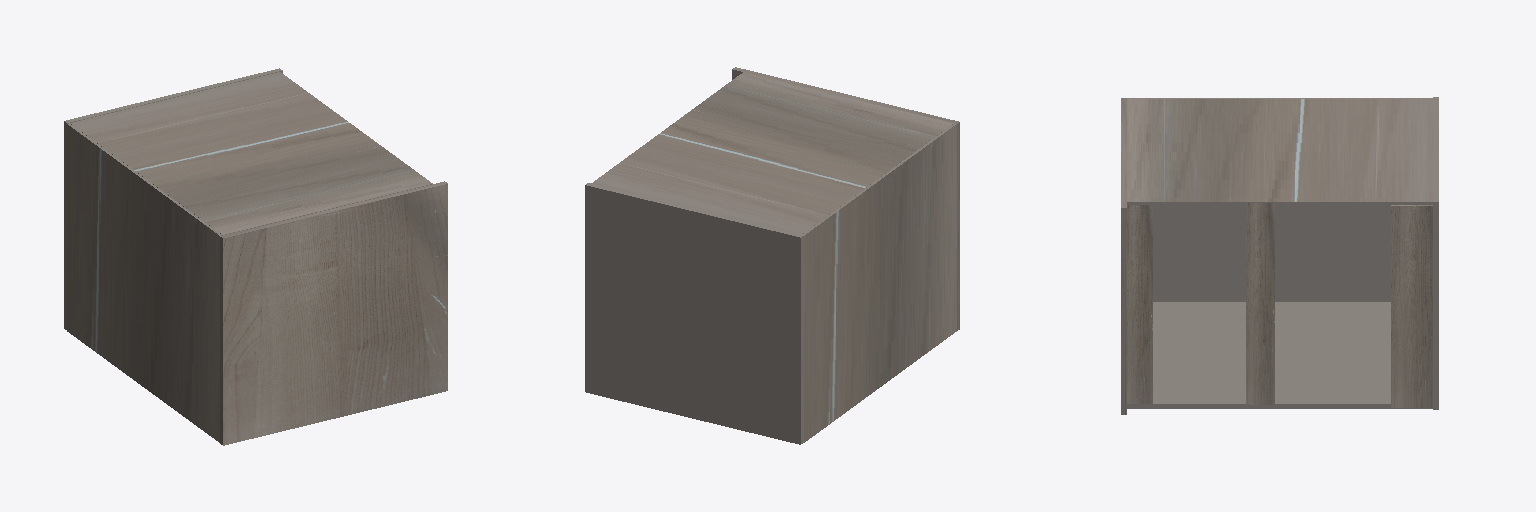
3 renders of one model, left to right at view 1: azimuth 30°, elevation 25°; view 2: azimuth 150°, elevation 25°; view 3: azimuth 270°, elevation 25°, orthographic.
Size of the model in its own units: 0.396 by 0.3504 by 0.4861.
Materials: 1 (1 with a texture image).